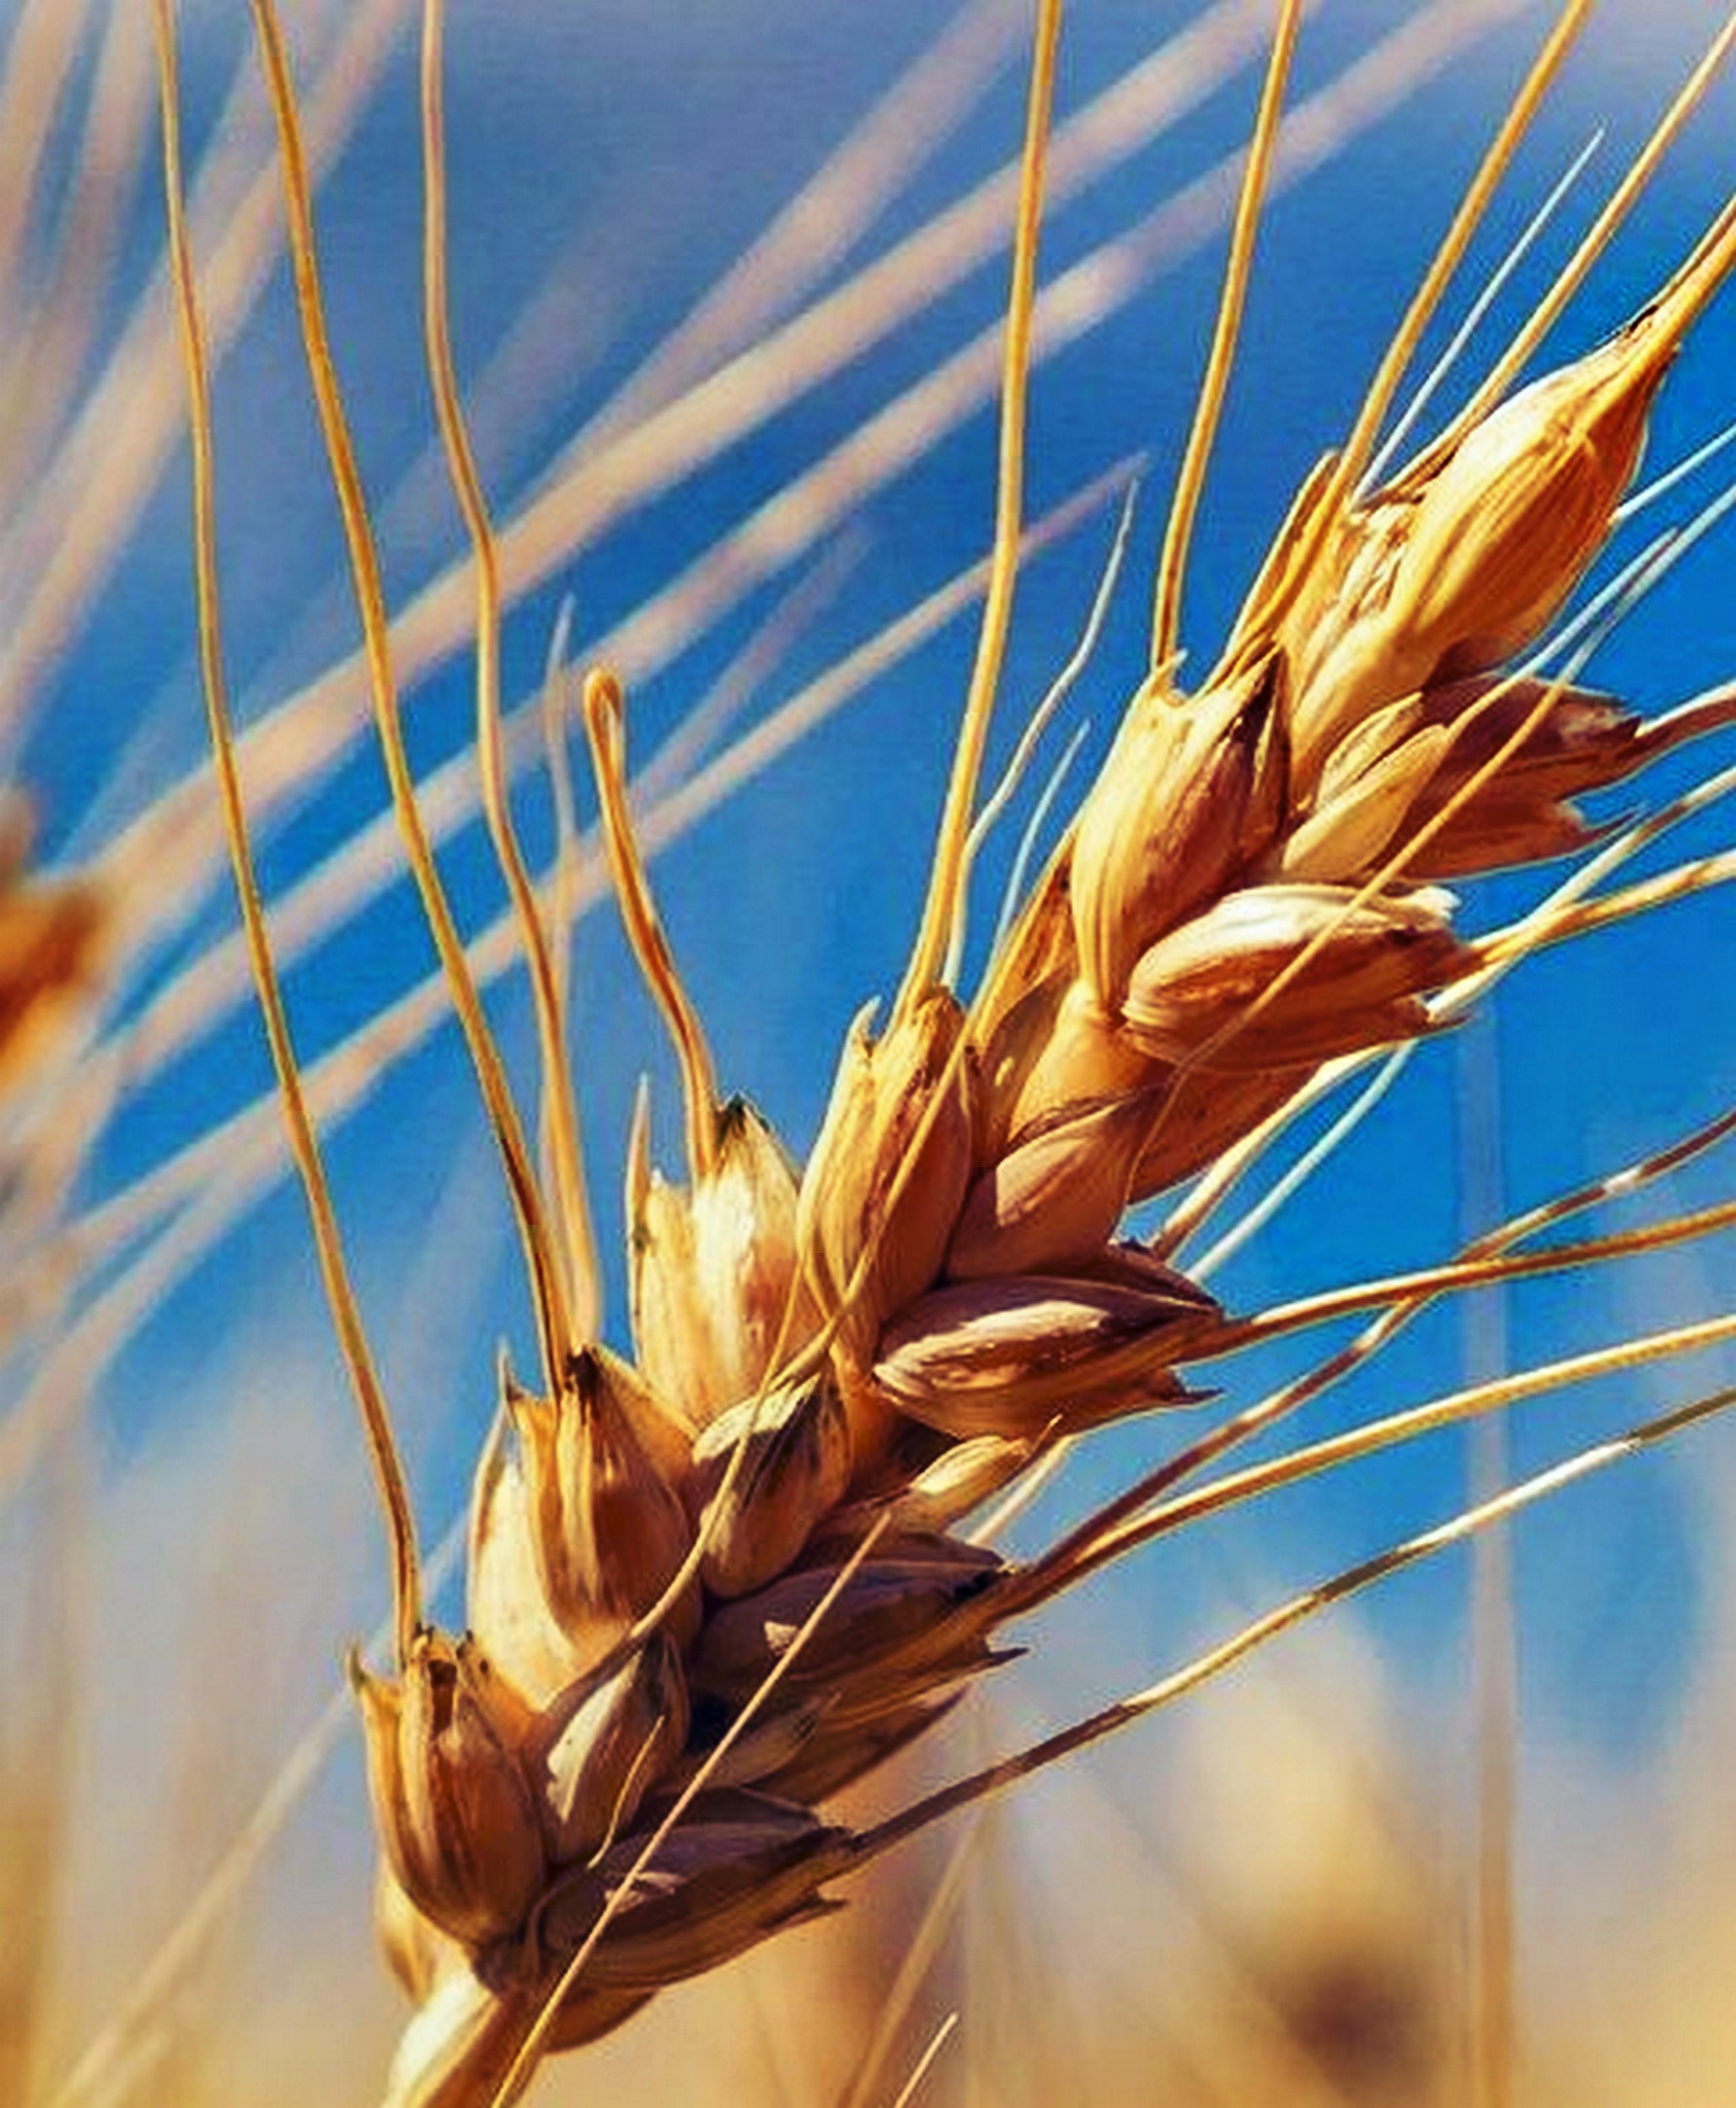Healthy Wheat: (422, 249, 1736, 2047)
